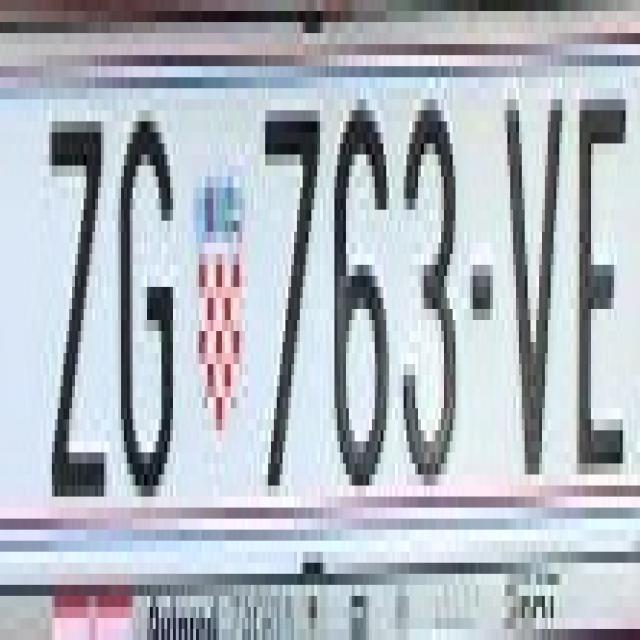3: (399, 94, 457, 480)
6: (332, 94, 389, 480)
7: (259, 94, 320, 491)
E: (574, 78, 628, 474)
G: (115, 110, 176, 497)
V: (503, 78, 564, 474)
Z: (46, 100, 107, 497)
